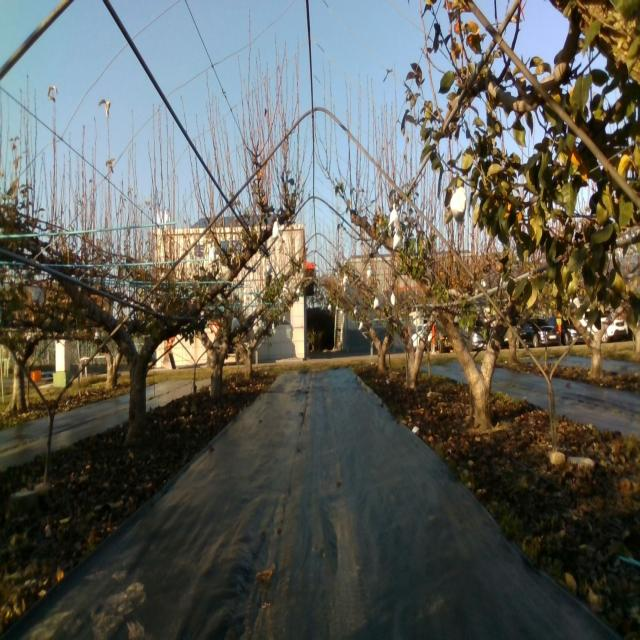pearbags: (450, 186, 467, 225), (208, 244, 220, 266), (388, 204, 399, 227), (393, 228, 403, 252), (272, 218, 282, 240)
